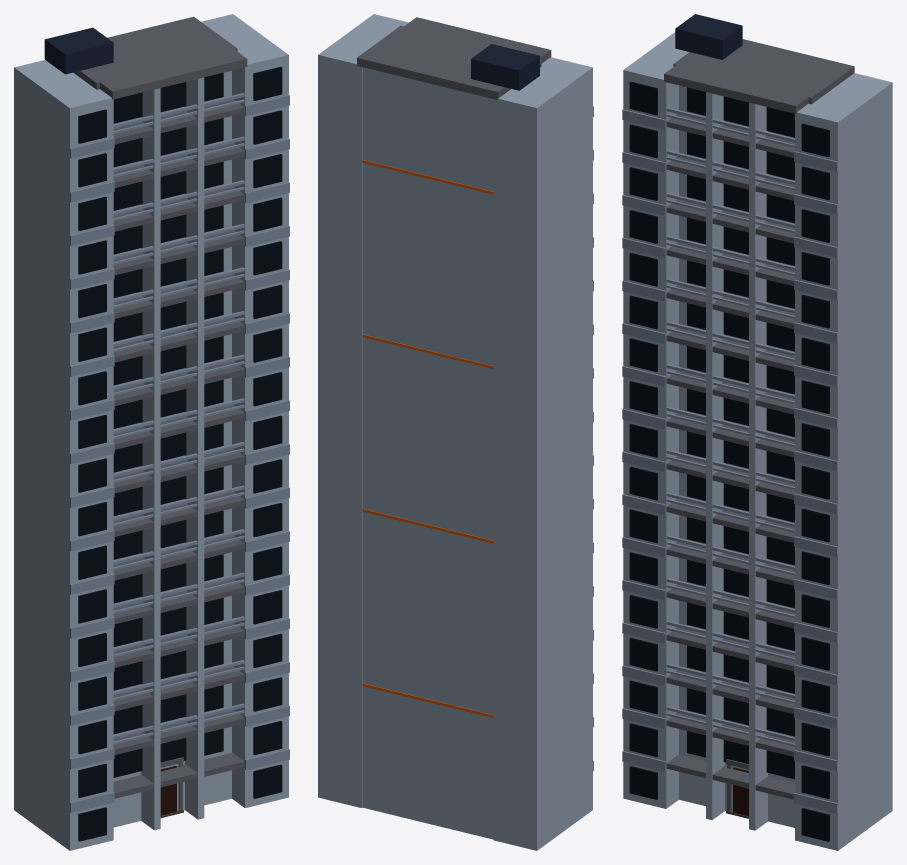
The model's file is highrise2.obj.
3 renders of one model, left to right at view 1: azimuth 30°, elevation 25°; view 2: azimuth 150°, elevation 25°; view 3: azimuth 330°, elevation 25°, orthographic.
Visible parts, largest first — view 1: end-shafts, shaft-glazing, loggia-glazing, loggia-slabs, loggia-piers, shaft-spandrels, loggia-rails, roof, back-wall, roof-plant, entrance; view 2: end-shafts, back-wall, roof, roof-plant, window-lights; view 3: end-shafts, shaft-glazing, loggia-glazing, loggia-slabs, loggia-piers, shaft-spandrels, loggia-rails, roof, back-wall, roof-plant.
Part boxes in pixels (<box>): end-shafts: <box>14,14,288,850</box>; shaft-glazing: <box>78,66,282,841</box>; loggia-glazing: <box>113,72,223,777</box>; loggia-slabs: <box>113,99,244,798</box>; loggia-piers: <box>141,77,204,830</box>; shaft-spandrels: <box>70,95,289,812</box>; loggia-rails: <box>113,93,244,744</box>; roof: <box>73,16,247,99</box>; back-wall: <box>113,70,231,827</box>; roof-plant: <box>44,27,113,74</box>; entrance: <box>160,766,176,815</box>; end-shafts: <box>318,14,592,850</box>; back-wall: <box>362,67,493,839</box>; roof: <box>357,17,551,99</box>; roof-plant: <box>471,44,539,90</box>; window-lights: <box>362,160,493,717</box>; end-shafts: <box>623,32,892,850</box>; shaft-glazing: <box>629,81,829,841</box>; loggia-glazing: <box>687,87,794,779</box>; loggia-slabs: <box>666,114,794,799</box>; loggia-piers: <box>706,92,767,830</box>; shaft-spandrels: <box>622,109,837,813</box>; loggia-rails: <box>666,107,794,746</box>; roof: <box>664,39,854,113</box>; back-wall: <box>679,85,794,827</box>; roof-plant: <box>675,14,742,59</box>.
Bounding box in the file's own units: 6.8 × 22.84 × 3.09.
